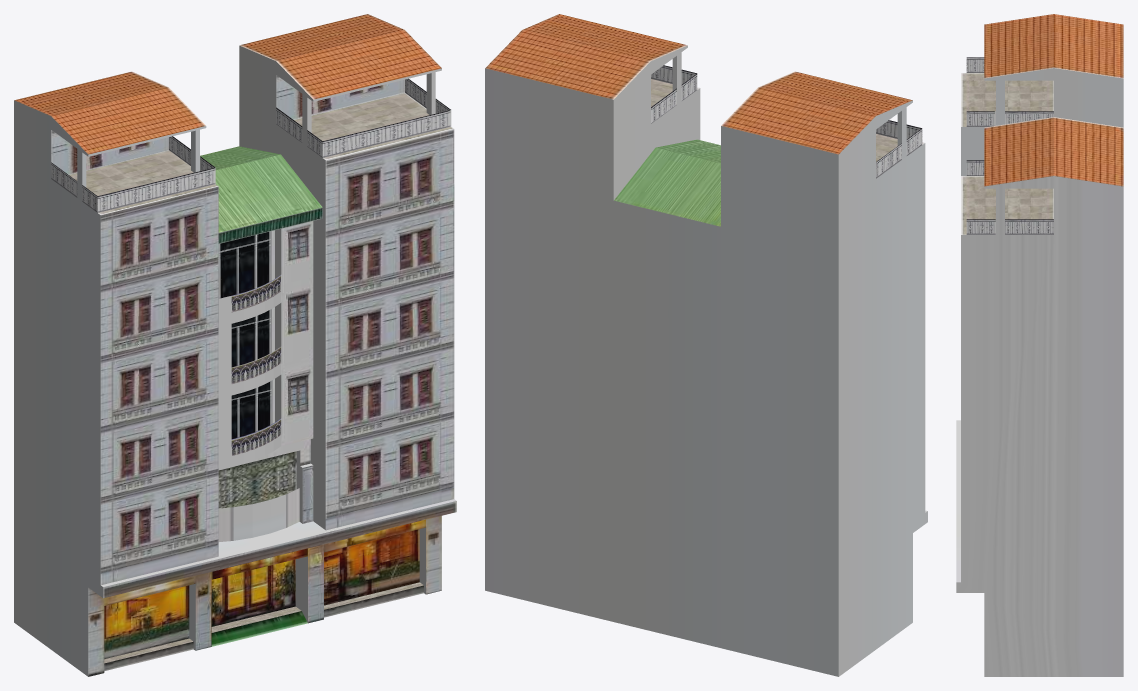
3 renders of one model, left to right at view 1: azimuth 30°, elevation 25°; view 2: azimuth 150°, elevation 25°; view 3: azimuth 270°, elevation 25°, orthographic. The views are drawn at different scales.
Parts seen in each view (by area): view 1: HN155_HONG_NGOC_DYNASTIVE_HOTEL; view 2: HN155_HONG_NGOC_DYNASTIVE_HOTEL; view 3: HN155_HONG_NGOC_DYNASTIVE_HOTEL.
Part boxes in pixels (<box>): HN155_HONG_NGOC_DYNASTIVE_HOTEL: <box>14,14,456,676</box>; HN155_HONG_NGOC_DYNASTIVE_HOTEL: <box>485,14,927,676</box>; HN155_HONG_NGOC_DYNASTIVE_HOTEL: <box>956,14,1123,676</box>.
Bounding box in the file's own units: 16.5 × 23.79 × 7.2.
Materials: 1 (1 with a texture image).
